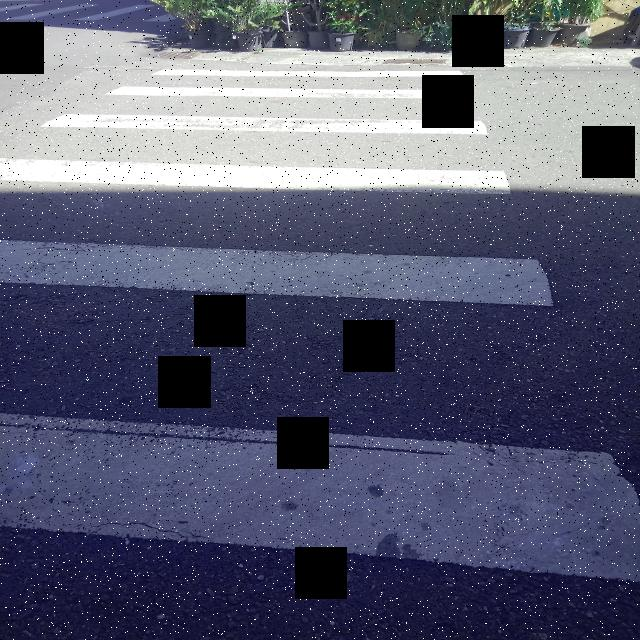zebra_crossing: (0, 67, 640, 585), (0, 3, 171, 22)
